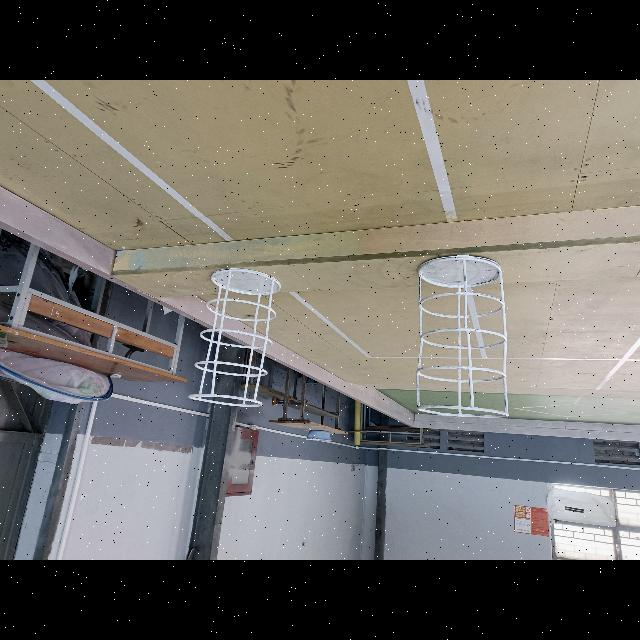S: (416, 257, 509, 417), (188, 267, 280, 406)
